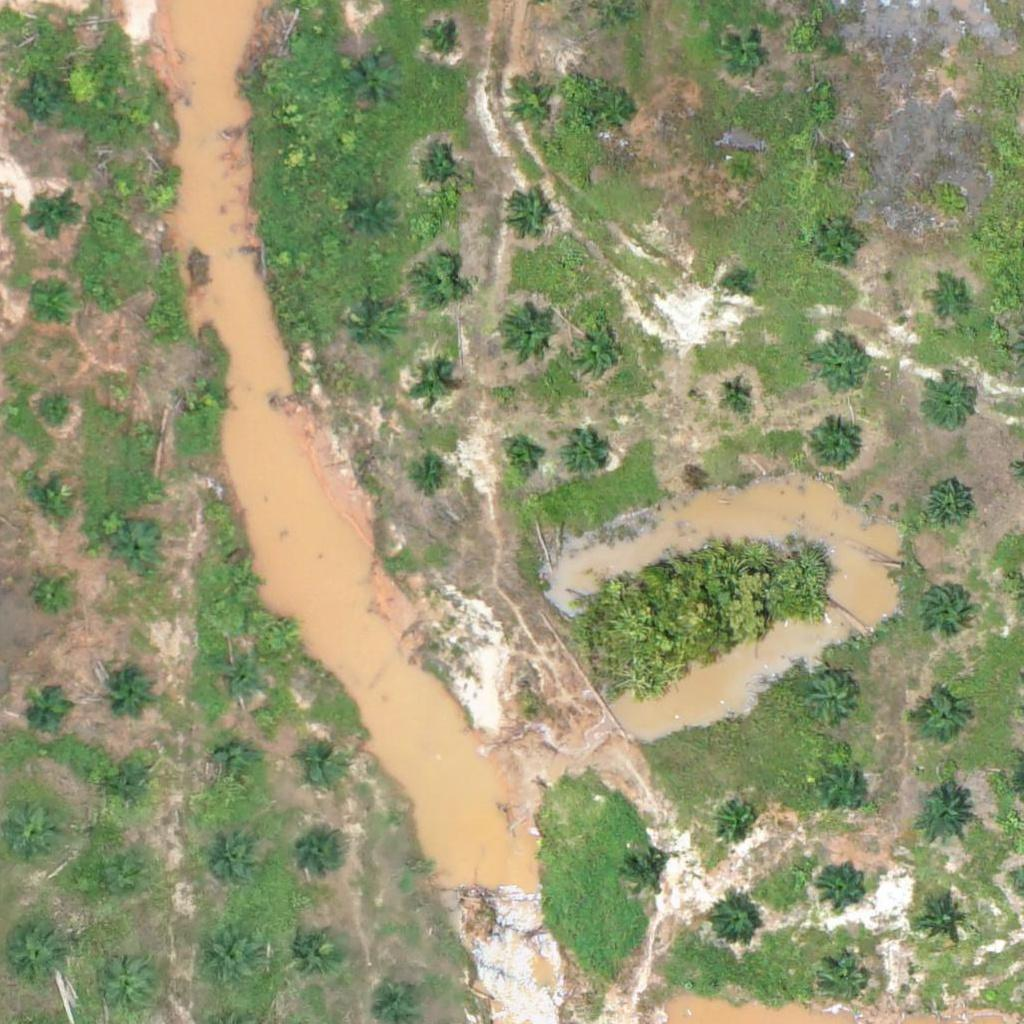Kelapa_Sawit: (84, 855, 147, 918), (199, 831, 262, 894), (197, 928, 260, 991), (913, 787, 976, 850), (564, 320, 627, 383), (6, 802, 68, 865), (5, 923, 67, 986), (284, 919, 346, 982), (804, 416, 866, 479), (808, 334, 870, 397), (498, 302, 560, 365), (594, 85, 644, 136), (913, 692, 963, 743), (924, 378, 974, 429), (807, 677, 857, 728), (818, 760, 868, 811), (818, 858, 868, 909), (918, 897, 968, 948), (921, 479, 971, 530), (814, 215, 864, 266), (23, 473, 73, 524), (507, 79, 557, 130), (300, 830, 350, 880), (107, 661, 157, 711), (25, 686, 75, 736), (214, 656, 264, 706), (113, 525, 163, 575), (210, 741, 260, 791), (296, 740, 346, 790), (918, 582, 968, 632), (709, 898, 759, 948), (820, 959, 870, 1009), (712, 794, 762, 844), (621, 850, 671, 900), (104, 765, 154, 815), (415, 150, 465, 200), (413, 259, 463, 309), (502, 192, 552, 242), (562, 428, 612, 478), (27, 193, 77, 243), (25, 283, 75, 333), (722, 25, 772, 75), (349, 58, 399, 108), (18, 78, 68, 128), (351, 309, 401, 359), (927, 284, 965, 322), (222, 563, 260, 601), (34, 574, 72, 612), (412, 364, 450, 402), (413, 455, 451, 493), (500, 438, 538, 476), (126, 415, 164, 453), (136, 302, 174, 340), (142, 177, 180, 215), (719, 375, 756, 413), (190, 377, 227, 415), (723, 151, 761, 188), (353, 197, 390, 235), (816, 145, 853, 183), (36, 396, 73, 433), (725, 272, 750, 297), (432, 26, 457, 51), (941, 62, 966, 87)
